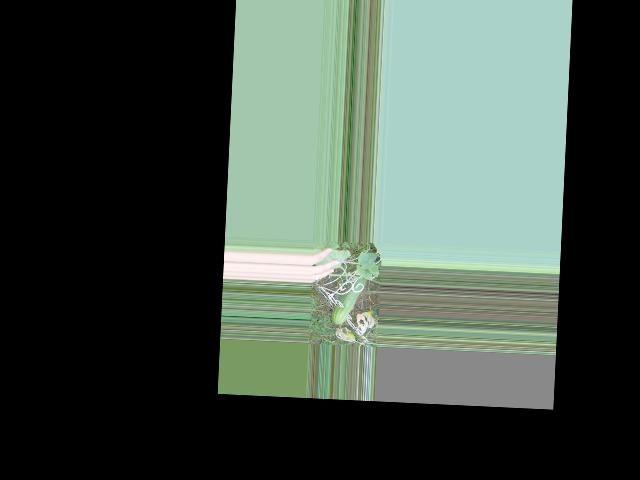cucumber: (331, 275, 366, 325)
